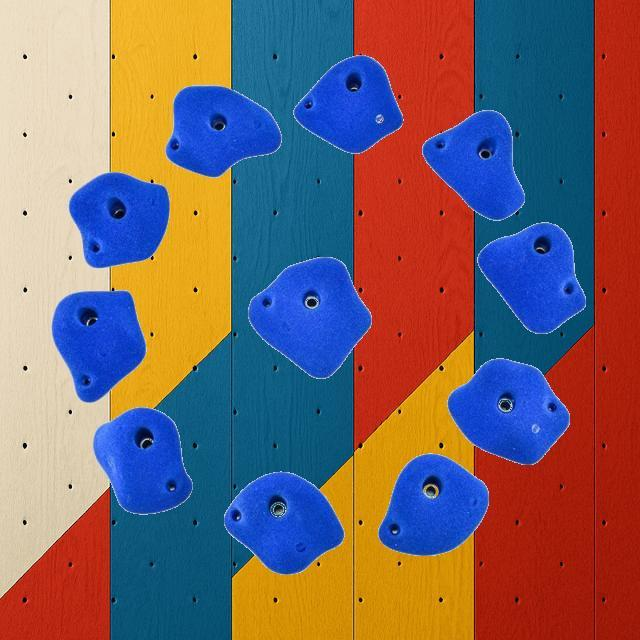Jug: (248, 256, 372, 378), (446, 358, 570, 466), (224, 471, 344, 575), (478, 222, 586, 334), (378, 452, 488, 556), (422, 109, 524, 221), (293, 54, 403, 154), (165, 84, 282, 178), (92, 406, 192, 514), (50, 290, 146, 402), (68, 170, 170, 268)
